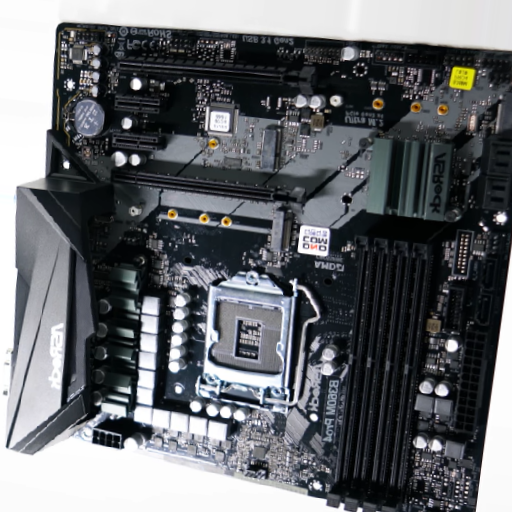CPU: (199, 271, 290, 415)
GPU: (111, 168, 307, 216), (118, 57, 318, 96)
MOTHERBOARD: (42, 23, 511, 512)
RAM: (325, 235, 430, 512)
SSD: (269, 209, 290, 251), (260, 130, 276, 167)
